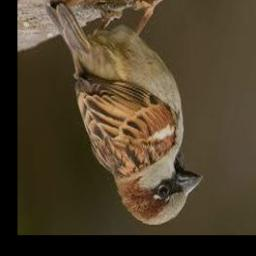Sparrow: (45, 0, 204, 226)
